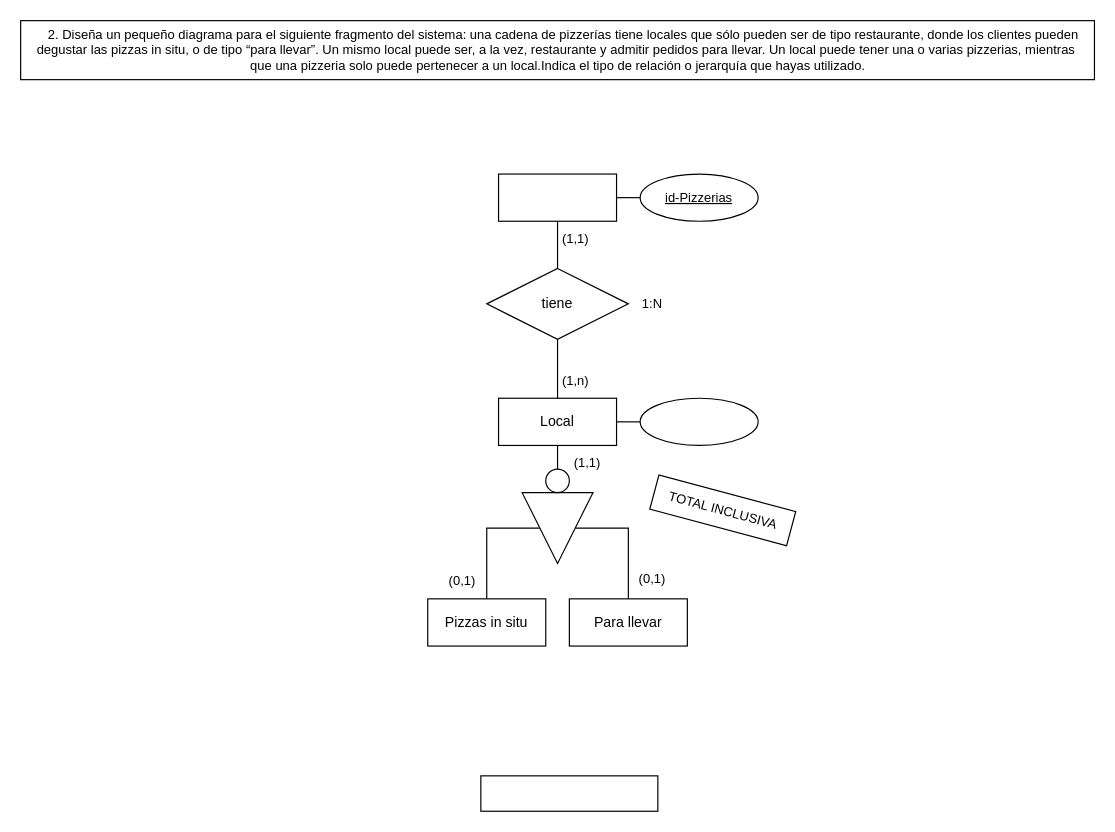
Some shapes in this 1115 by 832 pixel diagram are drawn without their labels. Here are the shapes that lost their labels. From the top down, the box of each, then its label:
(497, 173, 617, 221): Cadena de pizzerias
(639, 397, 758, 445): id-Local
(480, 775, 658, 811): Marcos Zahonero
